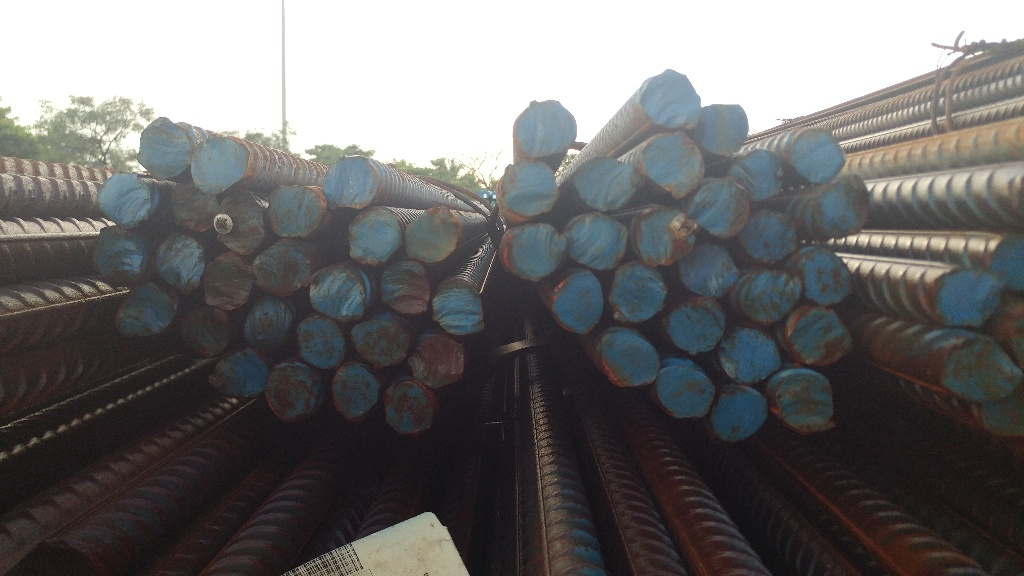dipstick: (943, 336, 1017, 405), (638, 131, 705, 200), (936, 268, 1004, 332), (633, 205, 697, 271), (774, 370, 839, 434), (637, 67, 701, 131), (787, 305, 852, 368), (505, 219, 567, 283), (688, 177, 750, 240), (514, 99, 577, 160), (678, 239, 739, 302), (718, 324, 781, 385), (498, 159, 561, 219), (609, 260, 667, 325), (136, 113, 193, 179), (567, 212, 629, 272), (114, 282, 179, 339), (572, 155, 638, 211), (666, 296, 726, 356), (190, 136, 250, 195), (266, 361, 324, 422), (552, 269, 604, 336), (742, 268, 802, 326), (742, 206, 799, 267), (815, 175, 870, 238), (403, 205, 460, 265), (709, 388, 770, 444), (801, 247, 856, 309), (600, 334, 662, 389), (727, 148, 787, 204), (654, 364, 714, 420), (215, 192, 268, 255), (790, 127, 847, 185), (266, 183, 325, 239), (96, 173, 153, 230), (347, 208, 402, 267), (309, 264, 366, 320), (382, 379, 438, 436), (153, 234, 206, 294), (252, 241, 309, 296), (409, 334, 466, 389), (324, 155, 380, 210), (244, 297, 296, 356), (94, 229, 146, 287), (202, 254, 253, 312), (350, 318, 410, 366), (697, 102, 750, 156), (207, 348, 267, 395), (380, 259, 431, 314), (295, 313, 345, 369), (330, 363, 379, 420), (431, 286, 486, 336), (170, 181, 219, 234), (179, 308, 230, 357)
